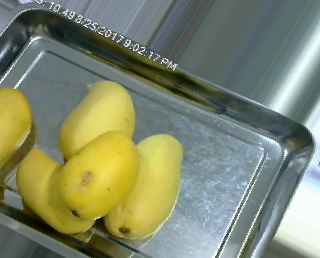Mango: (107, 125, 185, 245), (11, 146, 101, 235), (57, 135, 141, 219), (60, 72, 136, 162), (0, 78, 34, 160)
